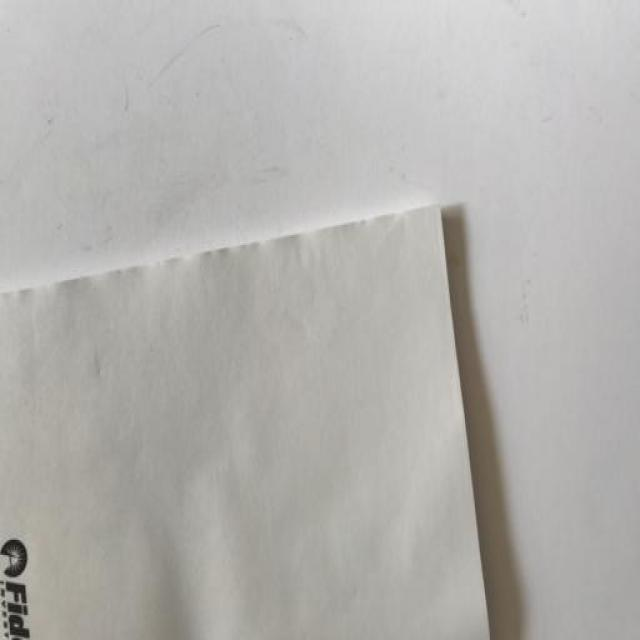paper: (3, 202, 518, 640)
